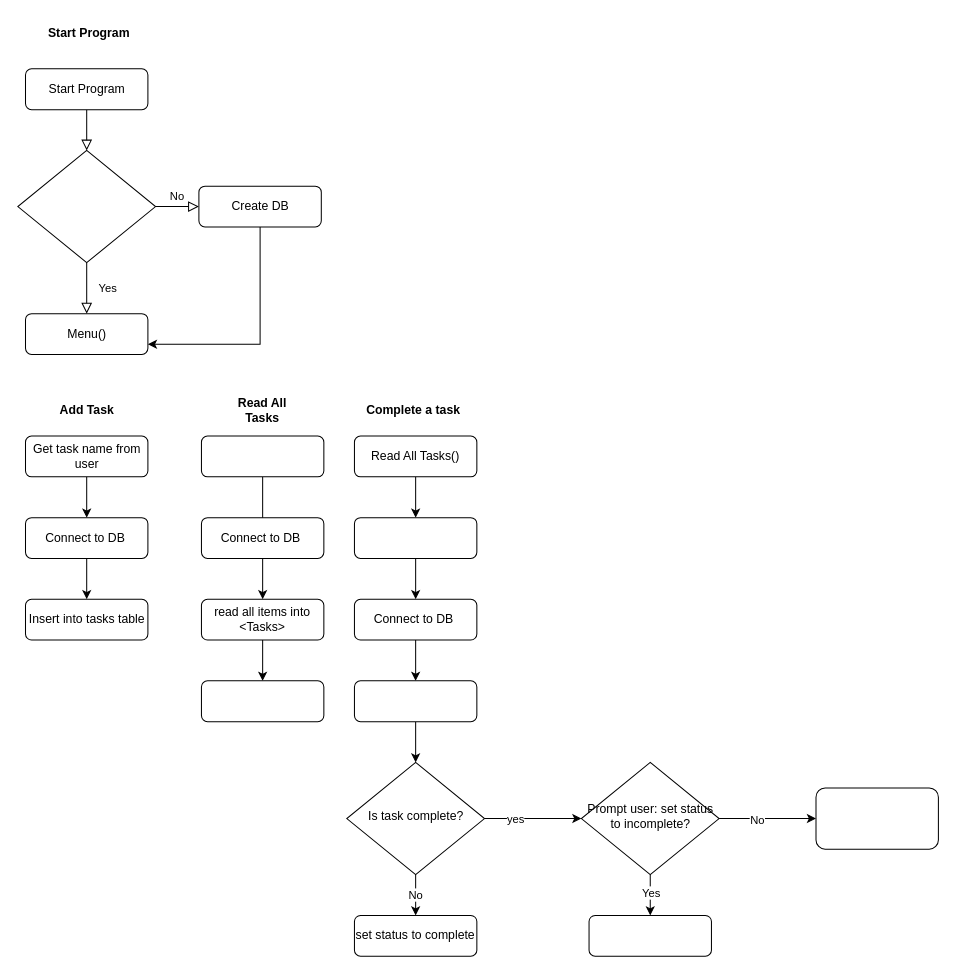
Image size: 957x974. Some labels were removed from this diagram. Here are the shapes that lost their labels. From the top down, the centre of each, then its label:
At pixel 86 206: "Does DB exsist?".
At pixel 262 456: "Create list <Tasks>".
At pixel 415 537: "Ask user for Appropriate ROWID".
At pixel 262 701: "print all <Tasks>".
At pixel 415 701: "Get status of task".
At pixel 876 818: "Return to menu".
At pixel 649 935: "Set status to incomplete".
